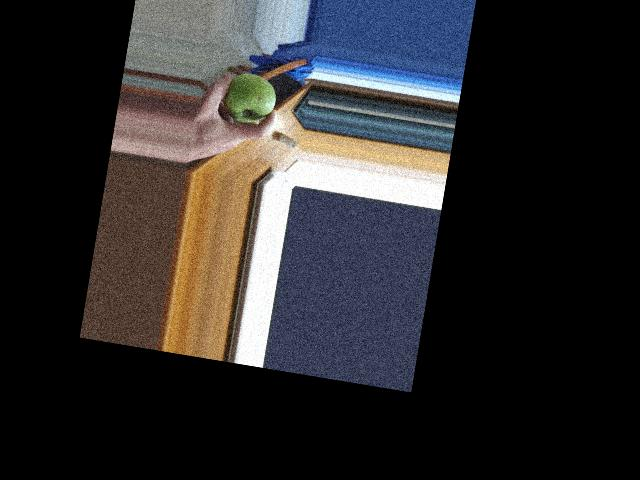apple: (219, 69, 281, 128)
